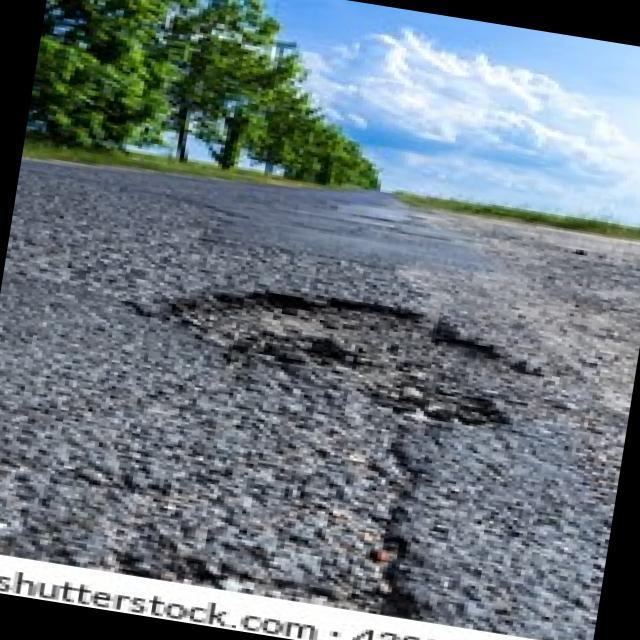Pothole: (148, 264, 544, 444)
